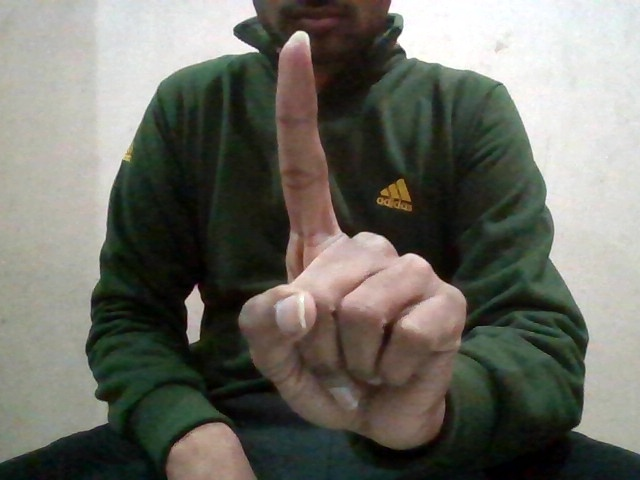D: (236, 29, 466, 446)
